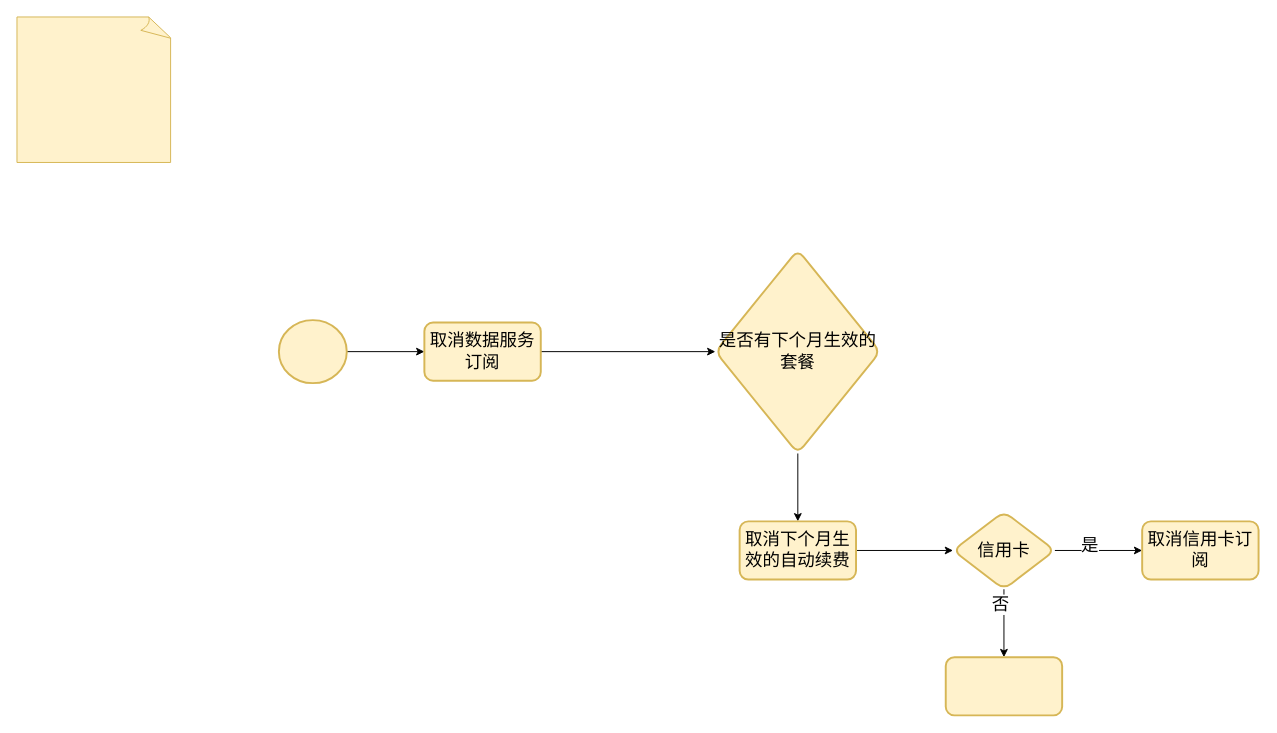
Image size: 1277x733. Some labels were removed from this diagram. Here are the shapes that lost their labels. From the top down, the box of each, then its label:
(16, 16, 172, 162): 订单支付重试 定时任务 延迟消息
(944, 656, 1063, 716): 余额直接修改
